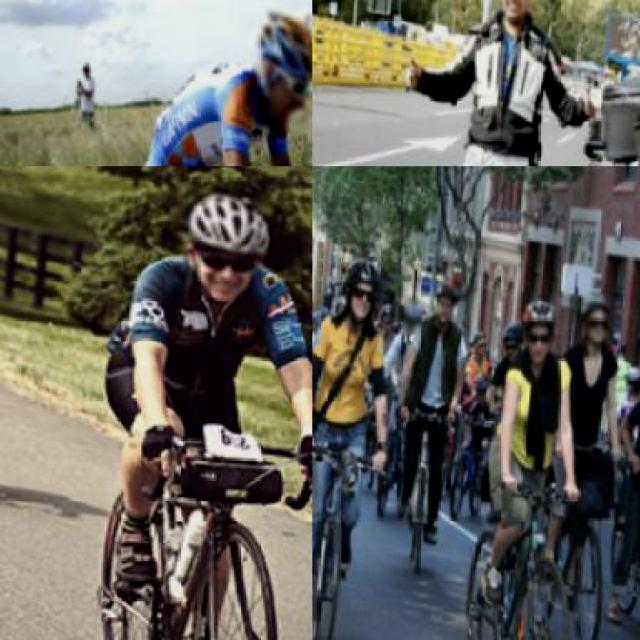With Helmet: (168, 173, 274, 296), (246, 0, 310, 132), (514, 286, 566, 368), (339, 244, 386, 330), (578, 282, 620, 344), (434, 264, 466, 330), (500, 310, 529, 358), (403, 293, 426, 333)
Without Helmet: (484, 0, 542, 31)
